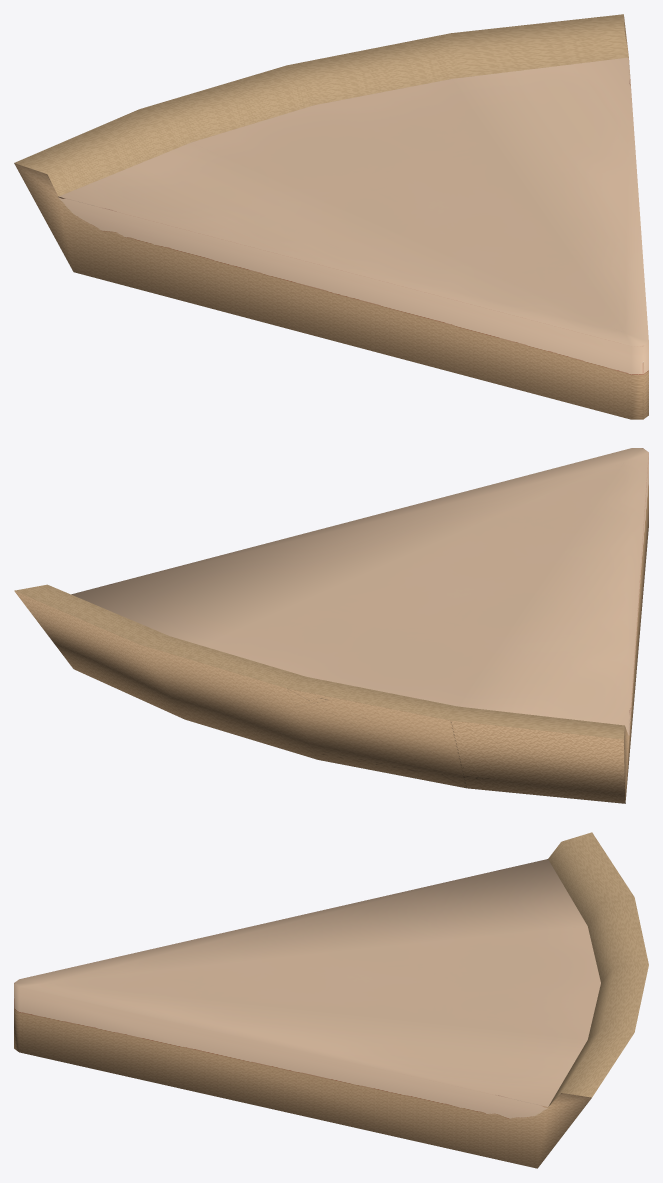
The model's file is WorldItem_PizzaWhiteSaucedSlice.fbx.
3 views of the same model, one above another, from view 1: azimuth 30°, elevation 25°; view 2: azimuth 150°, elevation 25°; view 3: azimuth 270°, elevation 25° (orthographic). The views are drawn at different scales.
Visible parts, largest first — view 1: Pie_Lemonmeringue001; view 2: Pie_Lemonmeringue001; view 3: Pie_Lemonmeringue001.
Boxes of the visible parts, x1,y1,x2,y2 form: Pie_Lemonmeringue001: (14,14,648,419); Pie_Lemonmeringue001: (14,448,648,803); Pie_Lemonmeringue001: (14,832,648,1168).
Bounding box in the file's own units: 22.09 × 3.25 × 22.34.
